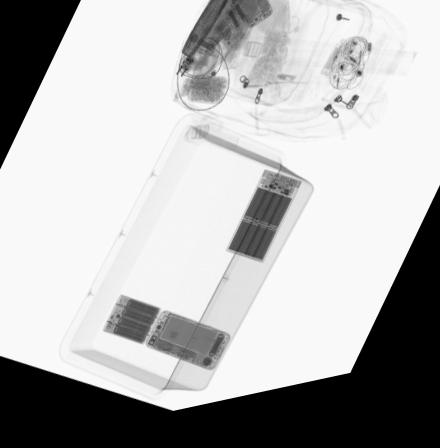Powerbank: (225, 181, 300, 275), (100, 297, 162, 353)
